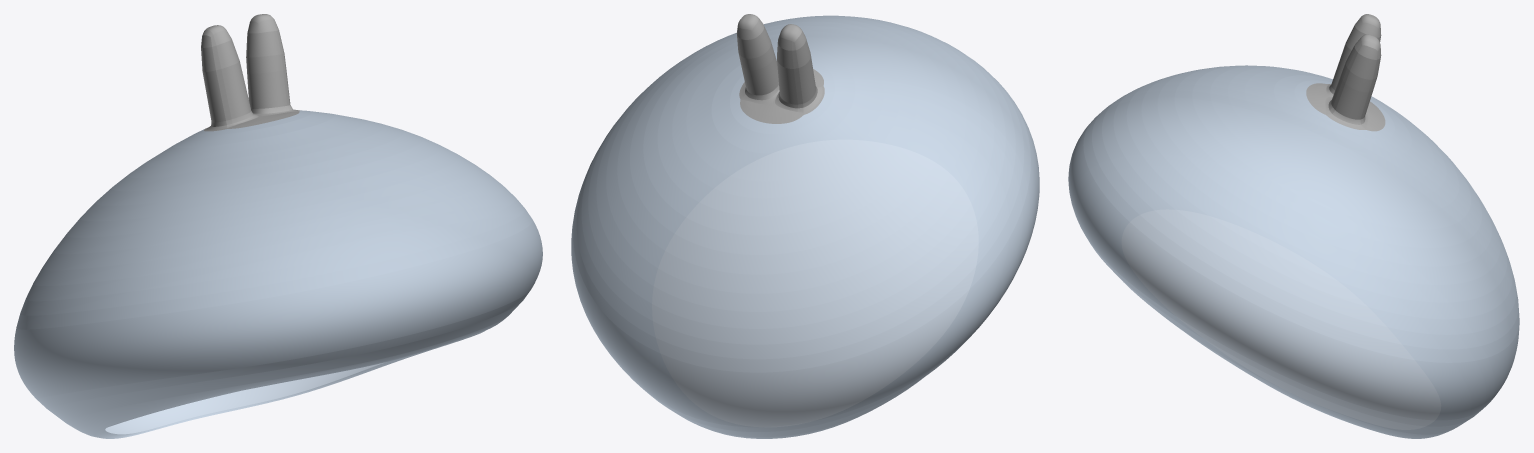
File: rabUv.fbx
3 views of the same model, side by side, from view 1: azimuth 30°, elevation 25°; view 2: azimuth 150°, elevation 25°; view 3: azimuth 270°, elevation 25° (orthographic). The views are drawn at different scales.
Parts seen in each view (by area): view 1: rab:mushroom_rabbit:polySurface1; view 2: rab:mushroom_rabbit:polySurface1; view 3: rab:mushroom_rabbit:polySurface1.
Part boxes in pixels (<box>): rab:mushroom_rabbit:polySurface1: <box>14,14,542,438</box>; rab:mushroom_rabbit:polySurface1: <box>571,14,1039,438</box>; rab:mushroom_rabbit:polySurface1: <box>1068,14,1519,438</box>.
Bounding box in the file's own units: 434 × 385 × 407.
